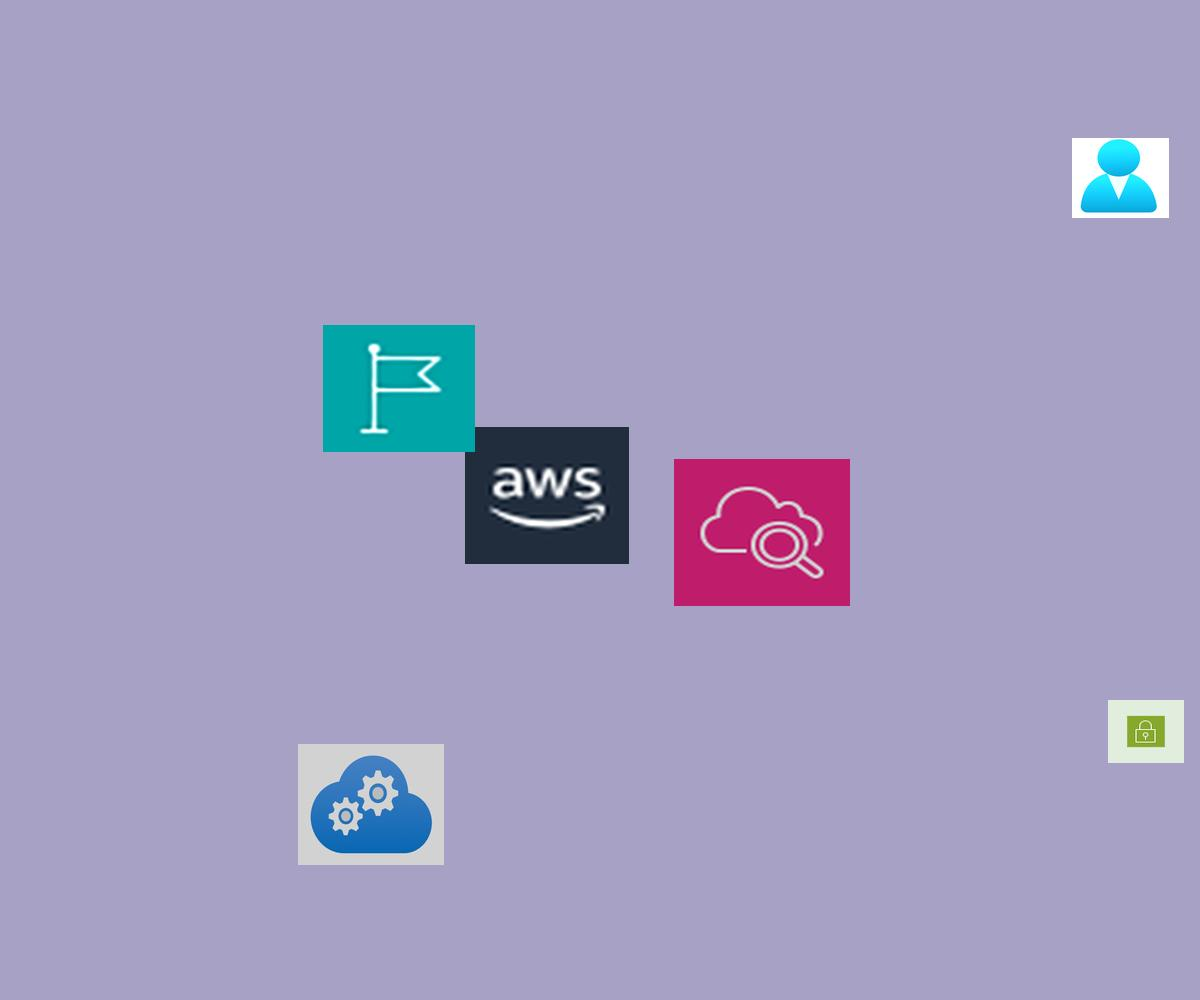AWS-Cloud-logo: (465, 427, 629, 564)
AWS-CloudWatch: (674, 459, 850, 606)
AWS-Public-subnet: (1108, 700, 1184, 763)
AWS-Region: (323, 325, 475, 452)
Azure_cloud_services: (298, 744, 444, 865)
Azure_users: (1072, 138, 1169, 218)
